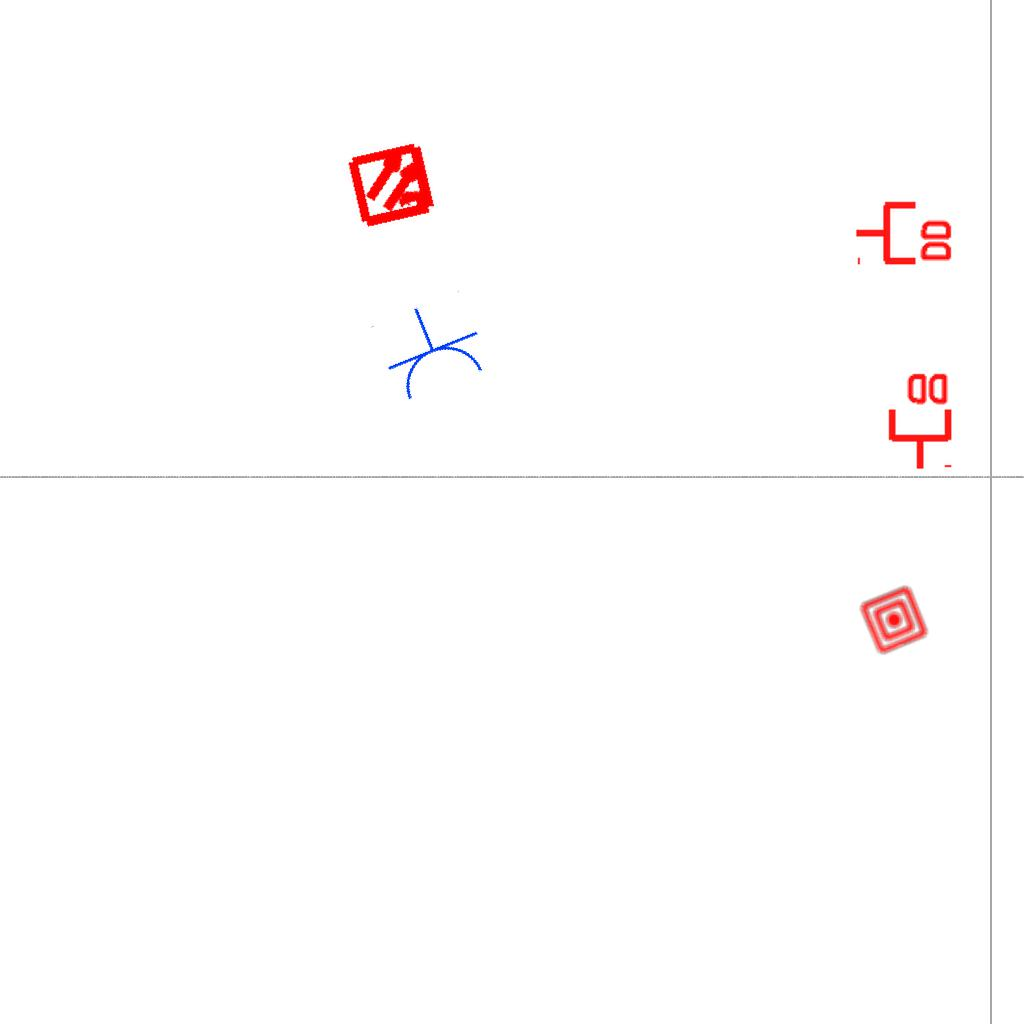Datenanschluss_zweifach: (853, 197, 956, 266), (884, 369, 953, 472)
NAM-Nichtautomatischer_Melder: (857, 583, 931, 657)
OT_Multisensormelder_(Kombination_RMO_WMD): (325, 116, 462, 253)
Schukosteckdose_einfach: (368, 289, 494, 408)
